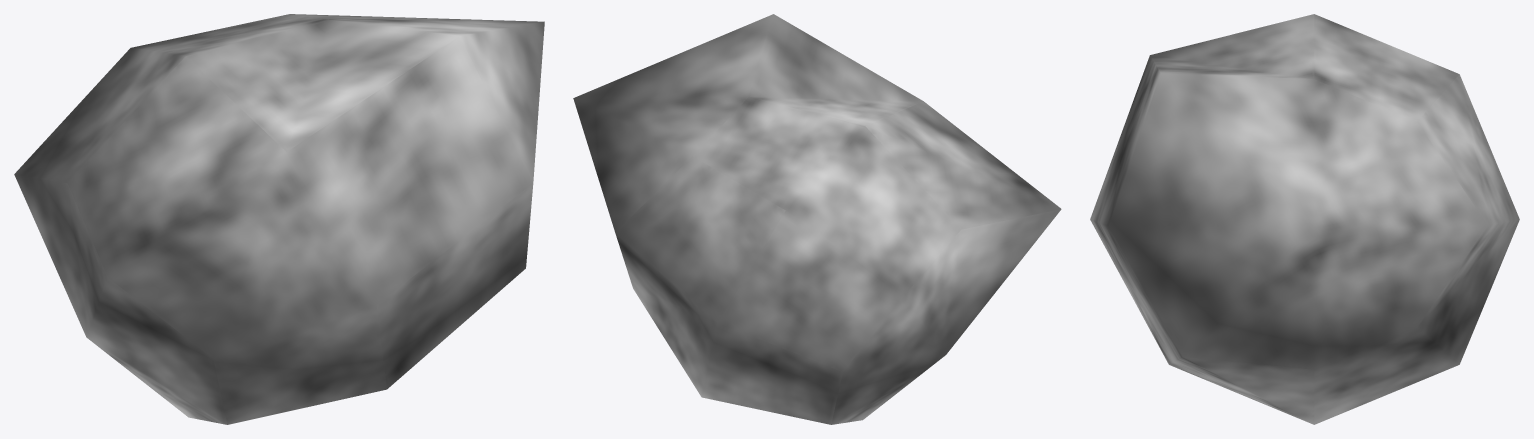
File: asteroid1.glb
3 views of the same model, side by side, from view 1: azimuth 30°, elevation 25°; view 2: azimuth 150°, elevation 25°; view 3: azimuth 270°, elevation 25° (orthographic). The views are drawn at different scales.
Visible parts, largest first — view 1: asteroid 01.007; view 2: asteroid 01.007; view 3: asteroid 01.007.
Part boxes in pixels (x1,y1,x2,y2): asteroid 01.007: (14,14,544,424); asteroid 01.007: (573,14,1061,424); asteroid 01.007: (1090,14,1519,424).
Size of the model in its own units: 3.17 by 2.3 by 2.39.
Materials: 1 (1 with a texture image).
